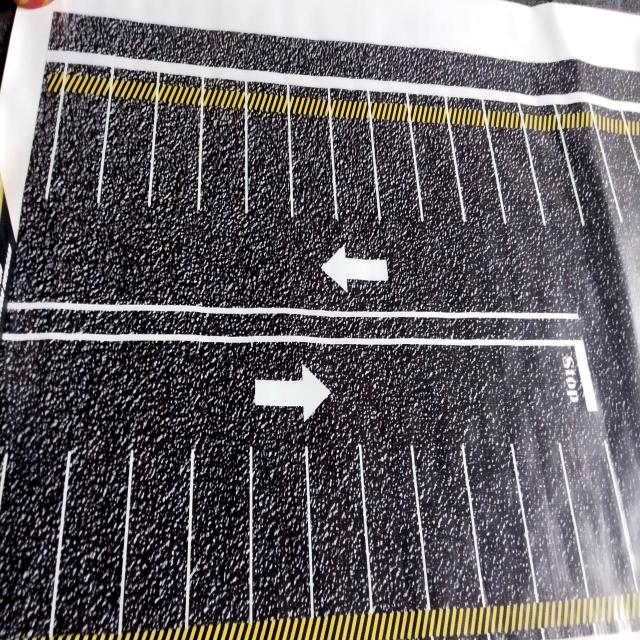others: (0, 177, 16, 340), (13, 0, 53, 9)
slots: (54, 442, 127, 634), (0, 429, 67, 636), (512, 418, 585, 600), (123, 430, 187, 630), (562, 413, 632, 595), (466, 430, 534, 604), (415, 435, 480, 607), (310, 431, 371, 614), (253, 420, 309, 619), (189, 440, 249, 624), (365, 447, 424, 609), (50, 94, 107, 220), (100, 98, 152, 235), (528, 130, 581, 262), (563, 129, 618, 239), (490, 128, 544, 234), (152, 105, 200, 217), (200, 107, 245, 220), (374, 119, 422, 222), (249, 111, 291, 227), (414, 122, 462, 222), (333, 116, 377, 224), (293, 116, 334, 219), (455, 127, 499, 219), (600, 131, 640, 227)
